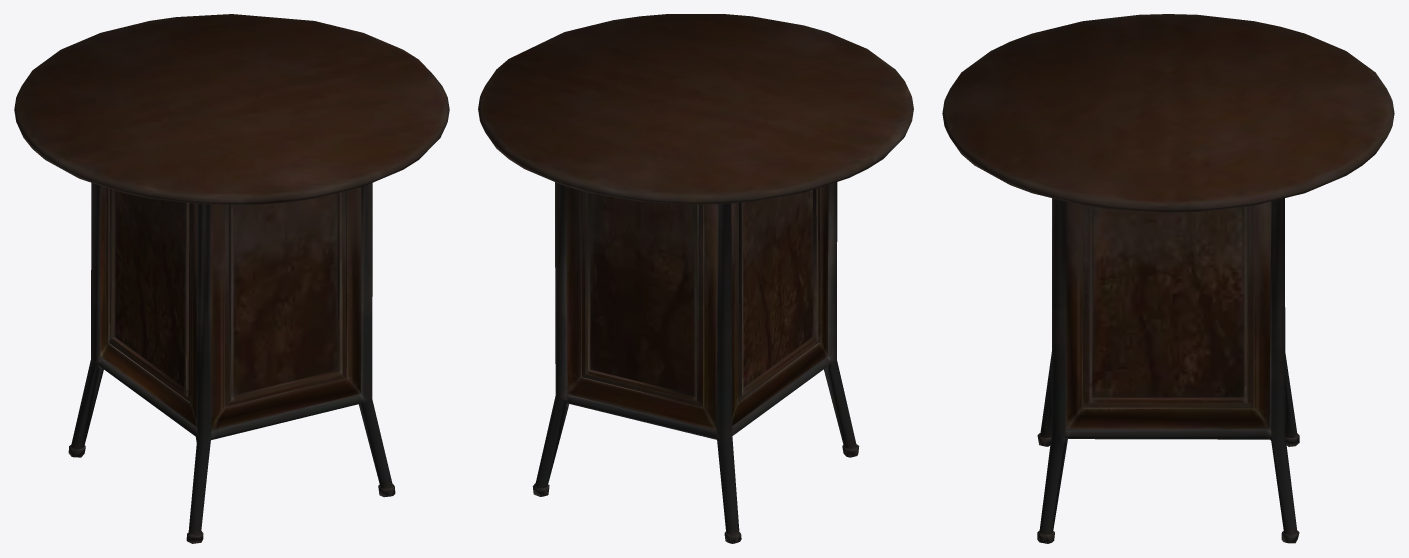
The model's file is round_wooden_table_02.glb.
3 renders of one model, left to right at view 1: azimuth 30°, elevation 25°; view 2: azimuth 150°, elevation 25°; view 3: azimuth 270°, elevation 25°, orthographic. The views are drawn at different scales.
Visible parts, largest first — view 1: round_wooden_table_02; view 2: round_wooden_table_02; view 3: round_wooden_table_02.
Part boxes in pixels (x1=…): round_wooden_table_02: x1=14, y1=14, x2=449, y2=543; round_wooden_table_02: x1=478, y1=14, x2=913, y2=543; round_wooden_table_02: x1=942, y1=14, x2=1394, y2=543.
Size of the model in its own units: 0.7962 by 0.7451 by 0.7962.
1 material, 1 textured.
